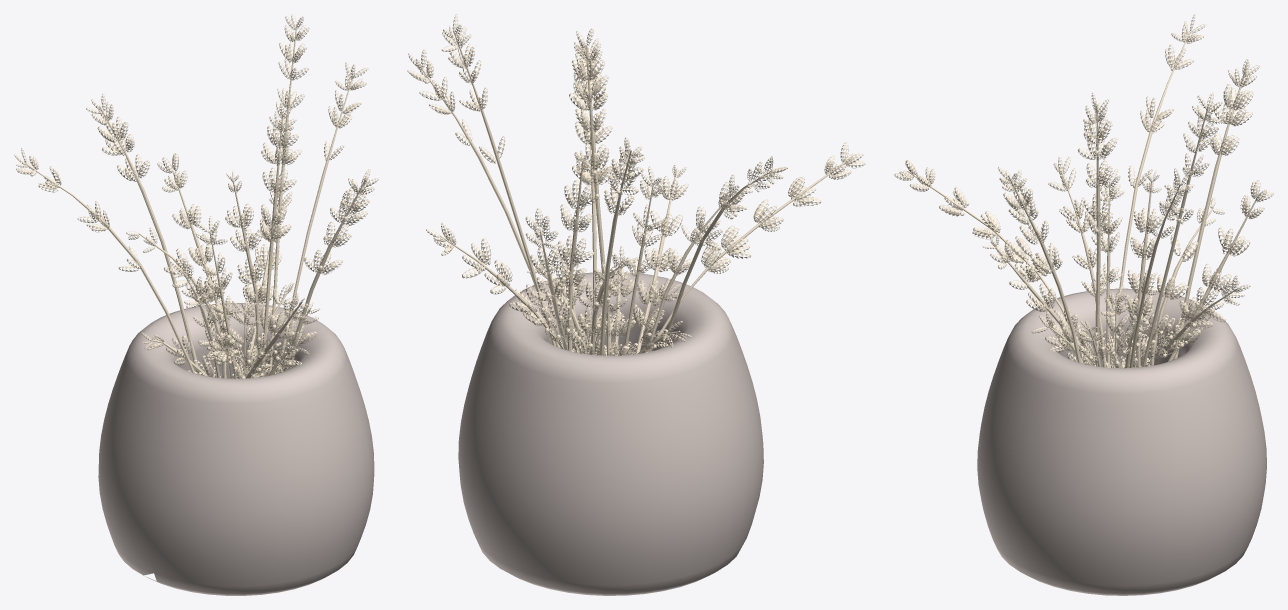
File: wheat.glb
The picture shows the model from 3 angles, left to right: view 1: azimuth 30°, elevation 25°; view 2: azimuth 150°, elevation 25°; view 3: azimuth 270°, elevation 25°; orthographic projection. The views are drawn at different scales.
Visible parts, largest first — view 1: g.255_61; view 2: g.255_61; view 3: g.255_61.
Part boxes in pixels (x1,y1,x2,y2): g.255_61: [14, 14, 378, 595]; g.255_61: [407, 14, 865, 595]; g.255_61: [894, 14, 1273, 595].
Size of the model in its own units: 0.6141 by 0.8133 by 0.553.
